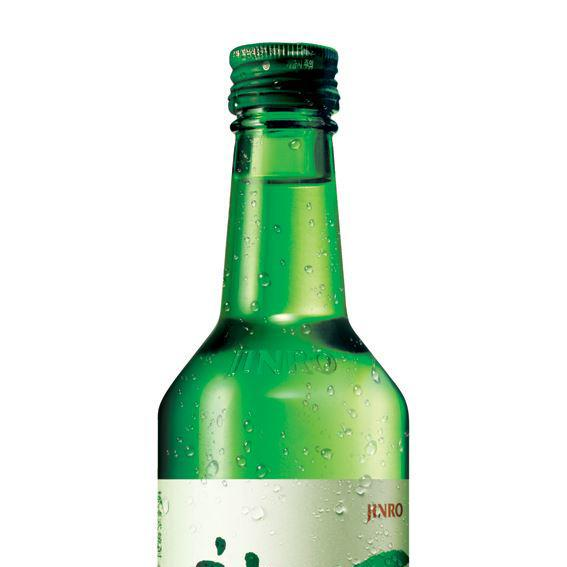soju: (151, 34, 417, 567)
